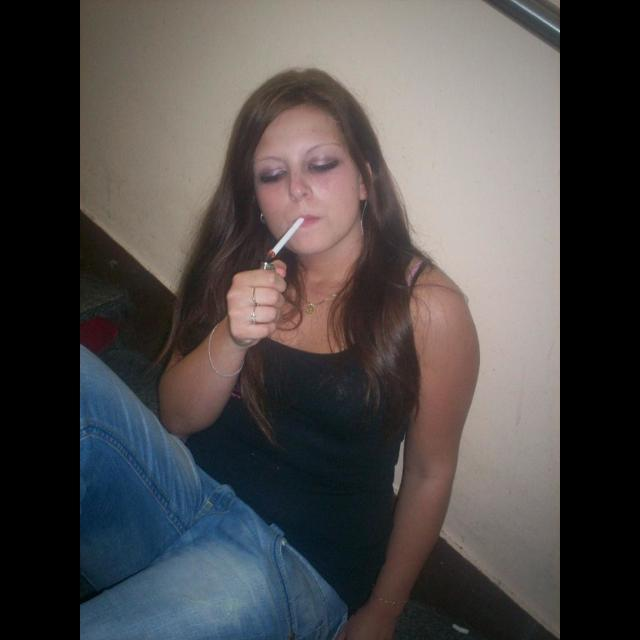rokok: (262, 214, 306, 264)
